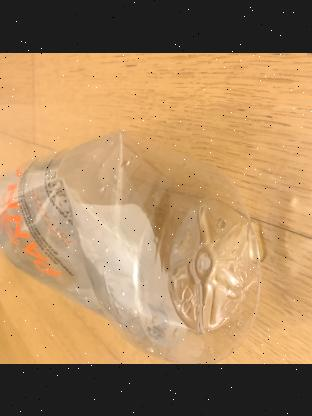Plastic Bottle: (0, 130, 264, 364)
